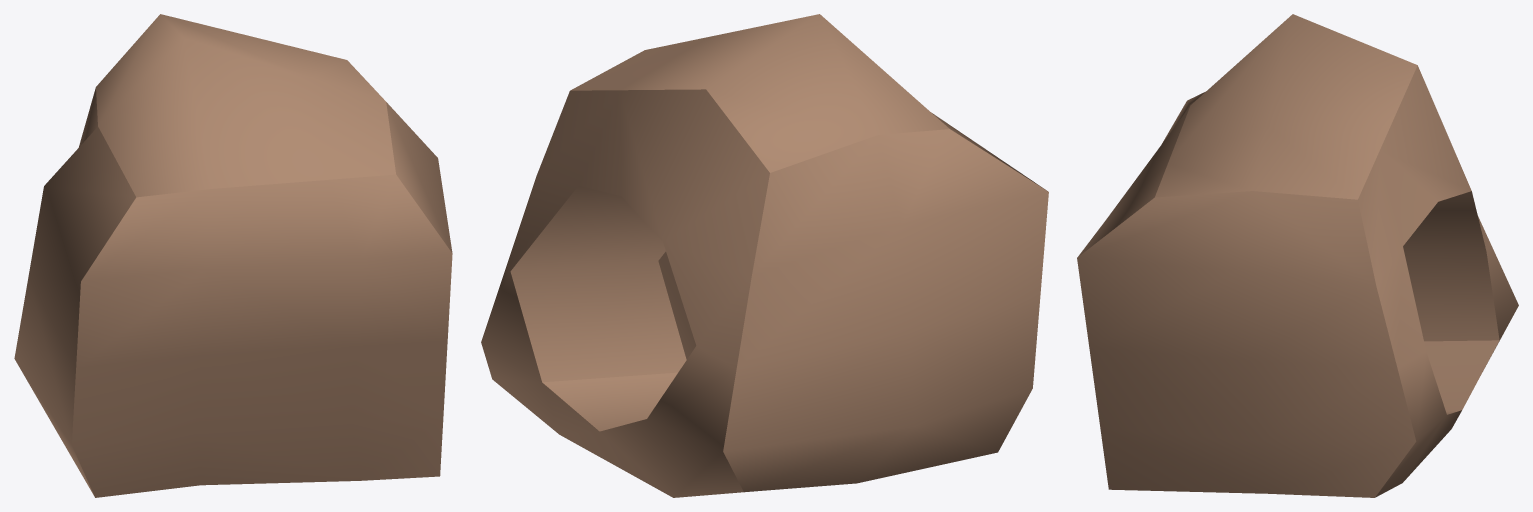
Rendered from CI_Rock_Hole.fbx.
3 views of the same model, side by side, from view 1: azimuth 30°, elevation 25°; view 2: azimuth 150°, elevation 25°; view 3: azimuth 270°, elevation 25° (orthographic). The views are drawn at different scales.
Visible parts, largest first — view 1: CI_Rock_Hole; view 2: CI_Rock_Hole; view 3: CI_Rock_Hole.
Boxes of the visible parts, x1,y1,x2,y2 form: CI_Rock_Hole: (14, 14, 452, 497); CI_Rock_Hole: (481, 14, 1048, 497); CI_Rock_Hole: (1077, 14, 1518, 497).
Size of the model in its own units: 22.72 by 21.5 by 21.39.
